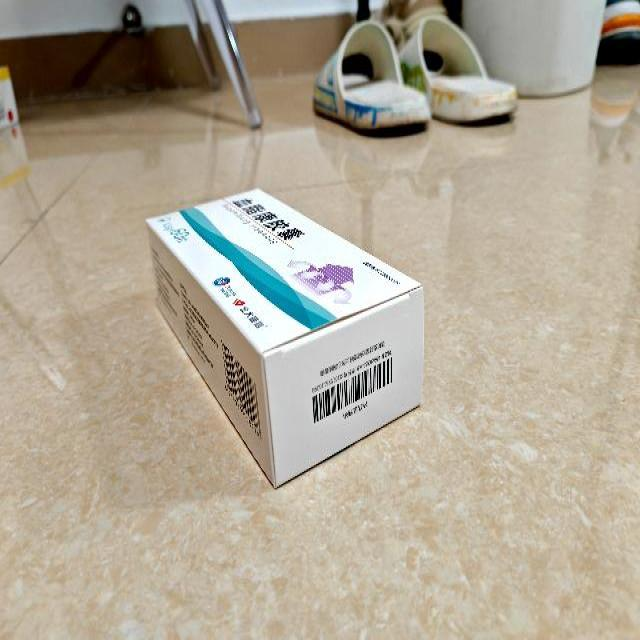box: (146, 188, 424, 488)
